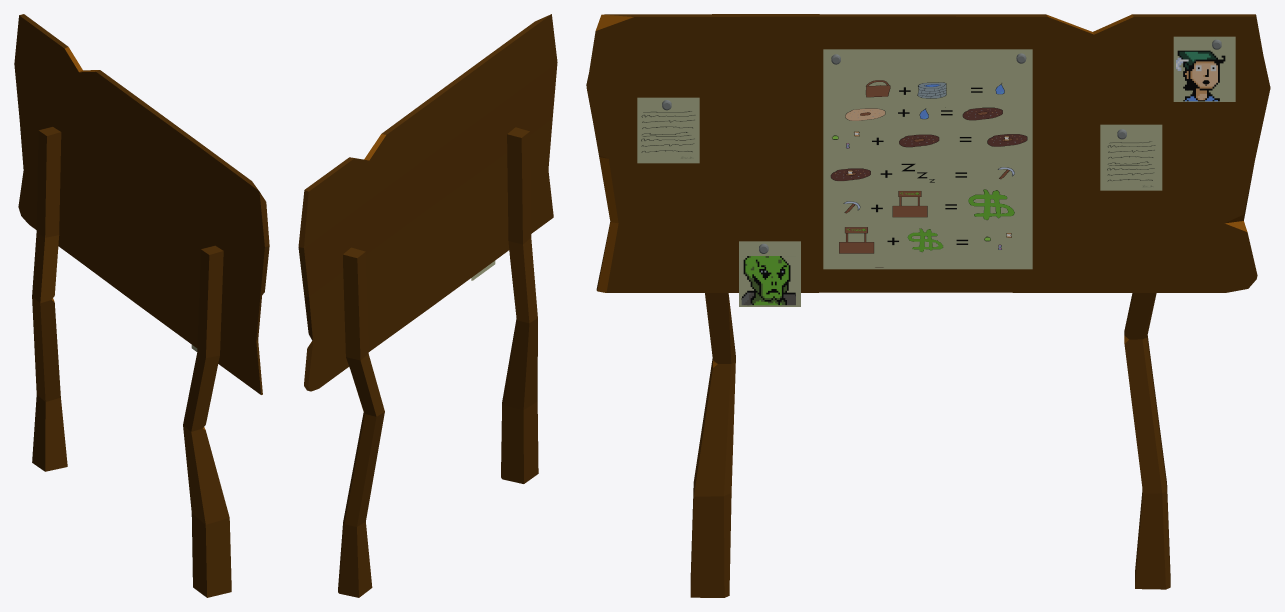
Rendered from tutorial1.glb.
The picture shows the model from 3 angles, left to right: view 1: azimuth 30°, elevation 25°; view 2: azimuth 150°, elevation 25°; view 3: azimuth 270°, elevation 25°; orthographic projection. The views are drawn at different scales.
Parts seen in each view (by area): view 1: Cube, Cube.002, Cube.001; view 2: Cube, Cube.002, Cube.001; view 3: Cube, foglio, Cube.002, Cube.001, Plane.001, contenutofoglio4.001, contenutofoglio2, contenuto folgio.5, Plane.003, contenutofoglio4, Plane.004.
Boxes of the visible parts, <box> form: Cube: <box>14,14,269,394</box>; Cube.002: <box>183,245,231,597</box>; Cube.001: <box>32,127,67,471</box>; Cube: <box>298,14,557,391</box>; Cube.002: <box>501,127,538,483</box>; Cube.001: <box>338,247,384,597</box>; Cube: <box>586,14,1270,292</box>; foglio: <box>823,49,1032,269</box>; Cube.002: <box>690,293,735,597</box>; Cube.001: <box>1124,293,1170,589</box>; Plane.001: <box>830,80,1027,267</box>; contenutofoglio4.001: <box>637,98,699,163</box>; contenutofoglio2: <box>1100,125,1162,190</box>; contenuto folgio.5: <box>1173,37,1235,101</box>; Plane.003: <box>741,256,795,305</box>; contenutofoglio4: <box>739,241,800,306</box>; Plane.004: <box>1176,50,1225,101</box>.
Bounding box in the file's own units: 0.7786 × 8.5 × 9.07.
9 materials, 5 textured.
